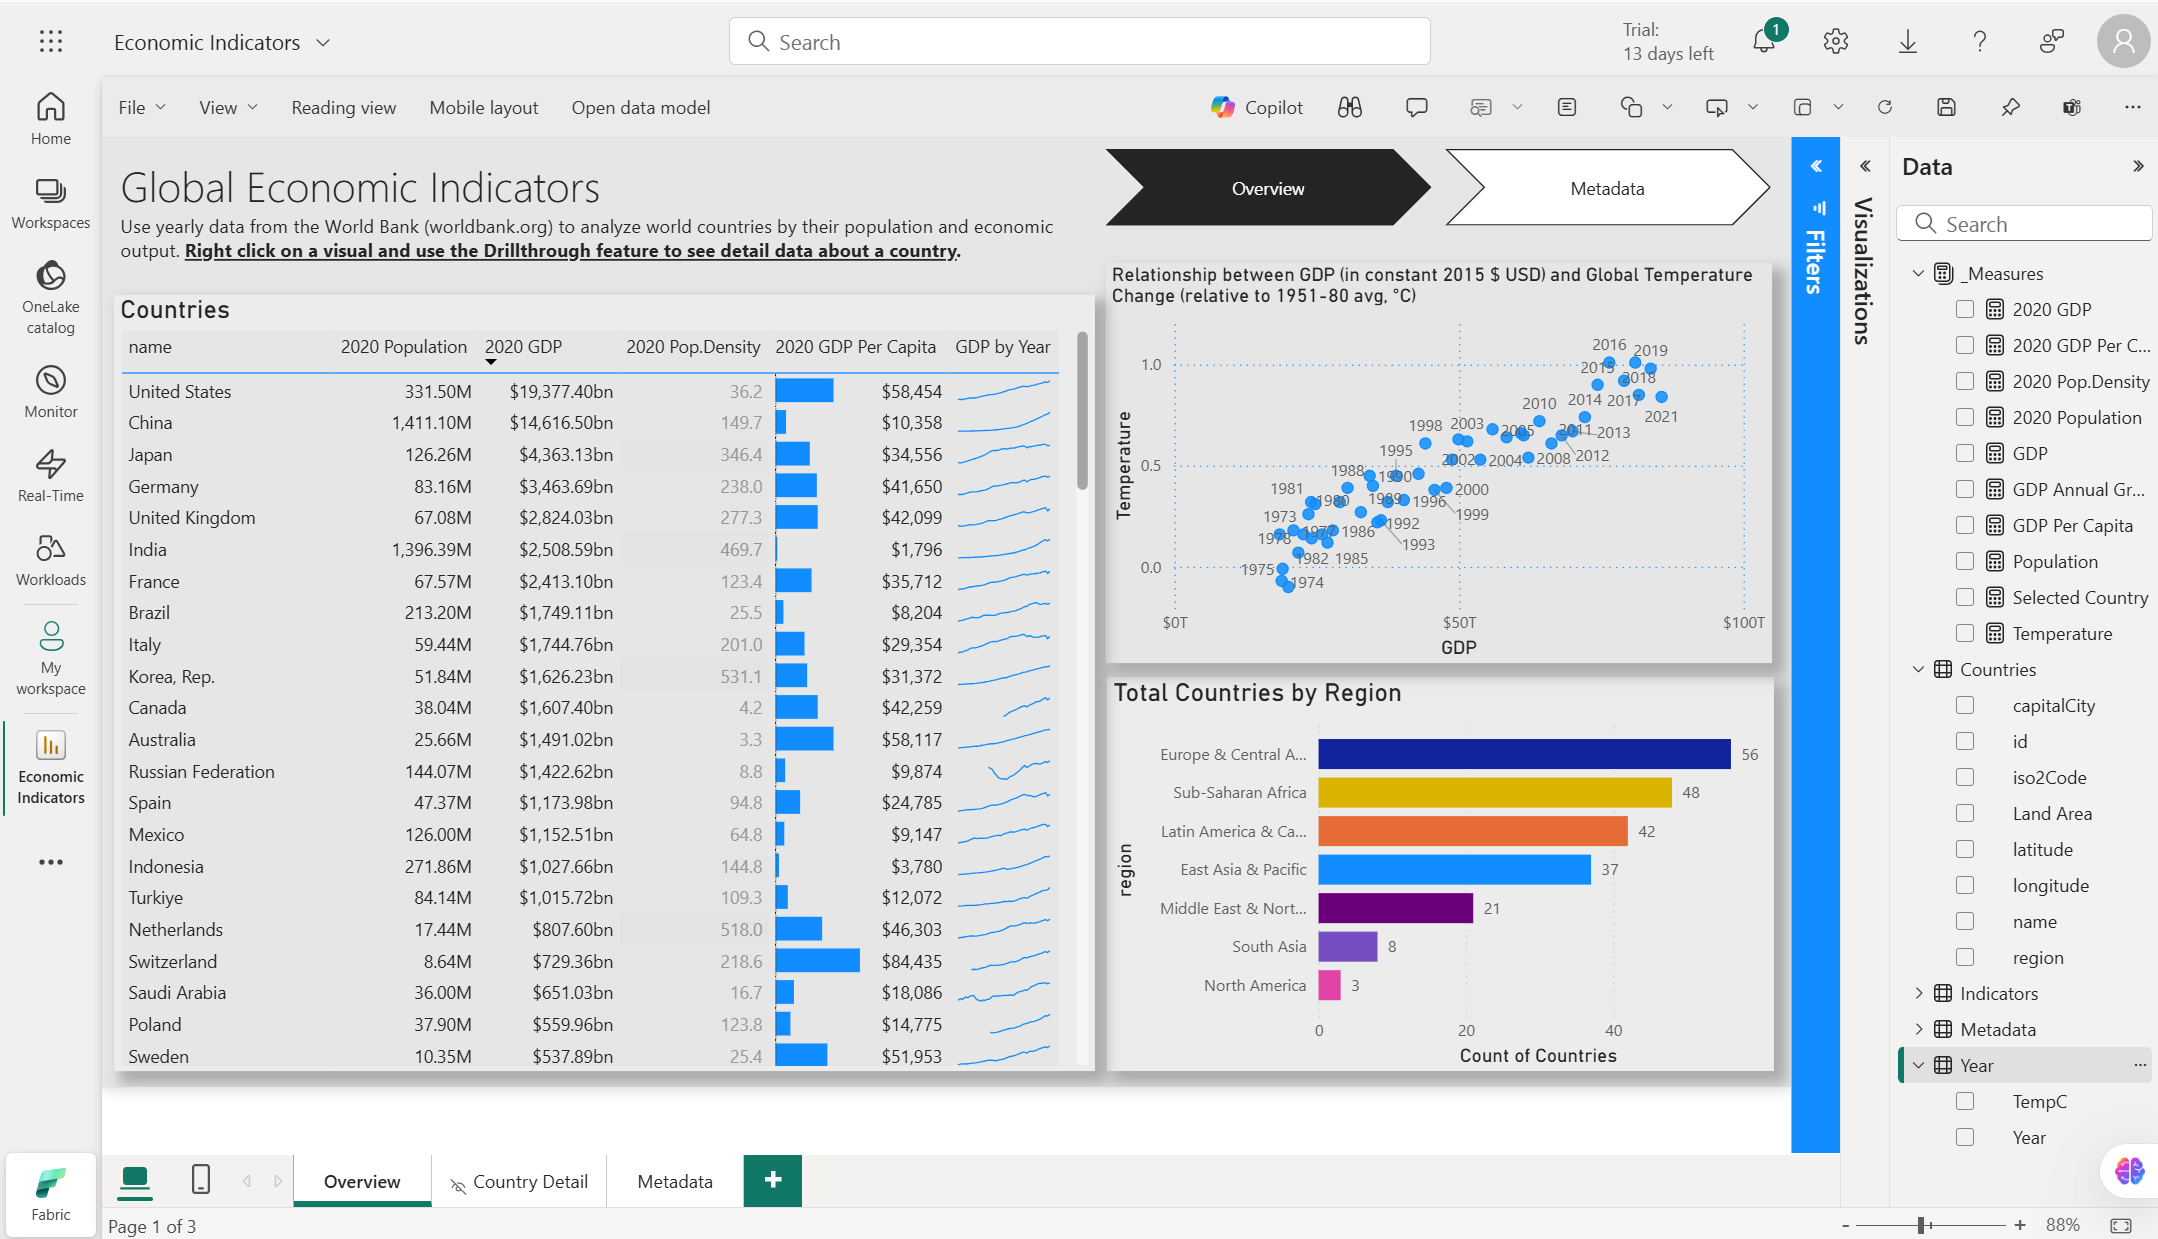

The dashboard page shown, as its layout file describes it:
{"tool":"powerbi","page":{"name":"Overview","canvas":[1280,720],"ordinal":0},"visuals":[{"type":"tableEx","title":"Countries","fields":{"Values":["Countries.name","_Measures.2020 Population","_Measures.2020 GDP","_Measures.2020 Pop.Density","_Measures.2020 GDP Per Capita","SparklineData(_Measures.GDP_[Indicators.Year])"]},"box":[8.9,118.9,743.3,588.9],"z":0},{"type":"clusteredBarChart","title":"Total Countries by Region","fields":{"Category":["Countries.region"],"Y":["Count(Countries)"]},"box":[761.1,408.9,505.6,298.9],"z":1000},{"type":"pageNavigator","box":[760.9,9.4,505.2,58.2],"z":2000},{"type":"textbox","box":[8.9,8.9,743.3,100],"z":3000},{"type":"scatterChart","title":"Relationship between GDP (in constant 2015 $ USD) and Global Temperature Change (relative to 1951-80 avg, °C)","fields":{"Category":["Year.Year"],"X":["_Measures.GDP"],"Y":["_Measures.Temperature"]},"box":[760.9,95.6,505.2,303.5],"z":4000}]}

Visuals, with their boxes on the page's 1280x720 design canvas (x1, y1, x2, y2). These are canvas units, not pixel positions in the 2158x1239 screenshot, which may show the page scaled, cropped or inside an application window:
"Countries" tableEx: 9,119,752,708
"Total Countries by Region" clusteredBarChart: 761,409,1267,708
pageNavigator: 761,9,1266,68
textbox: 9,9,752,109
"Relationship between GDP (in constant 2015 $ USD) and Global Temperature Change (relative to 1951-80 avg, °C)" scatterChart: 761,96,1266,399
